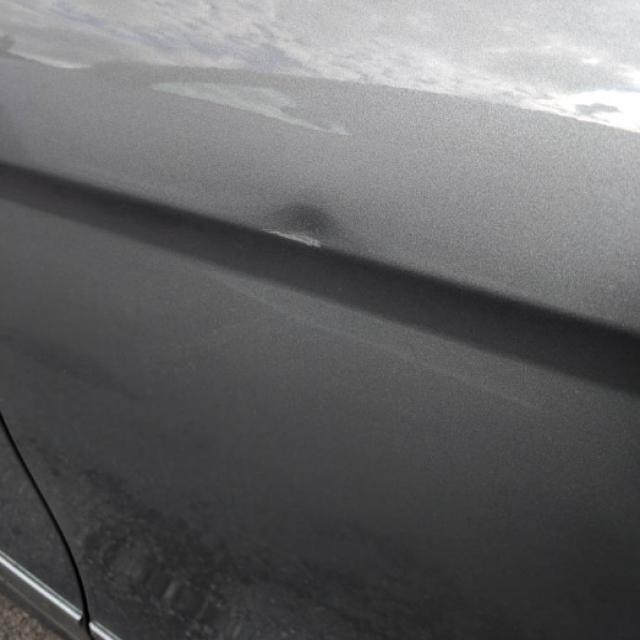dents: (235, 176, 365, 280)
